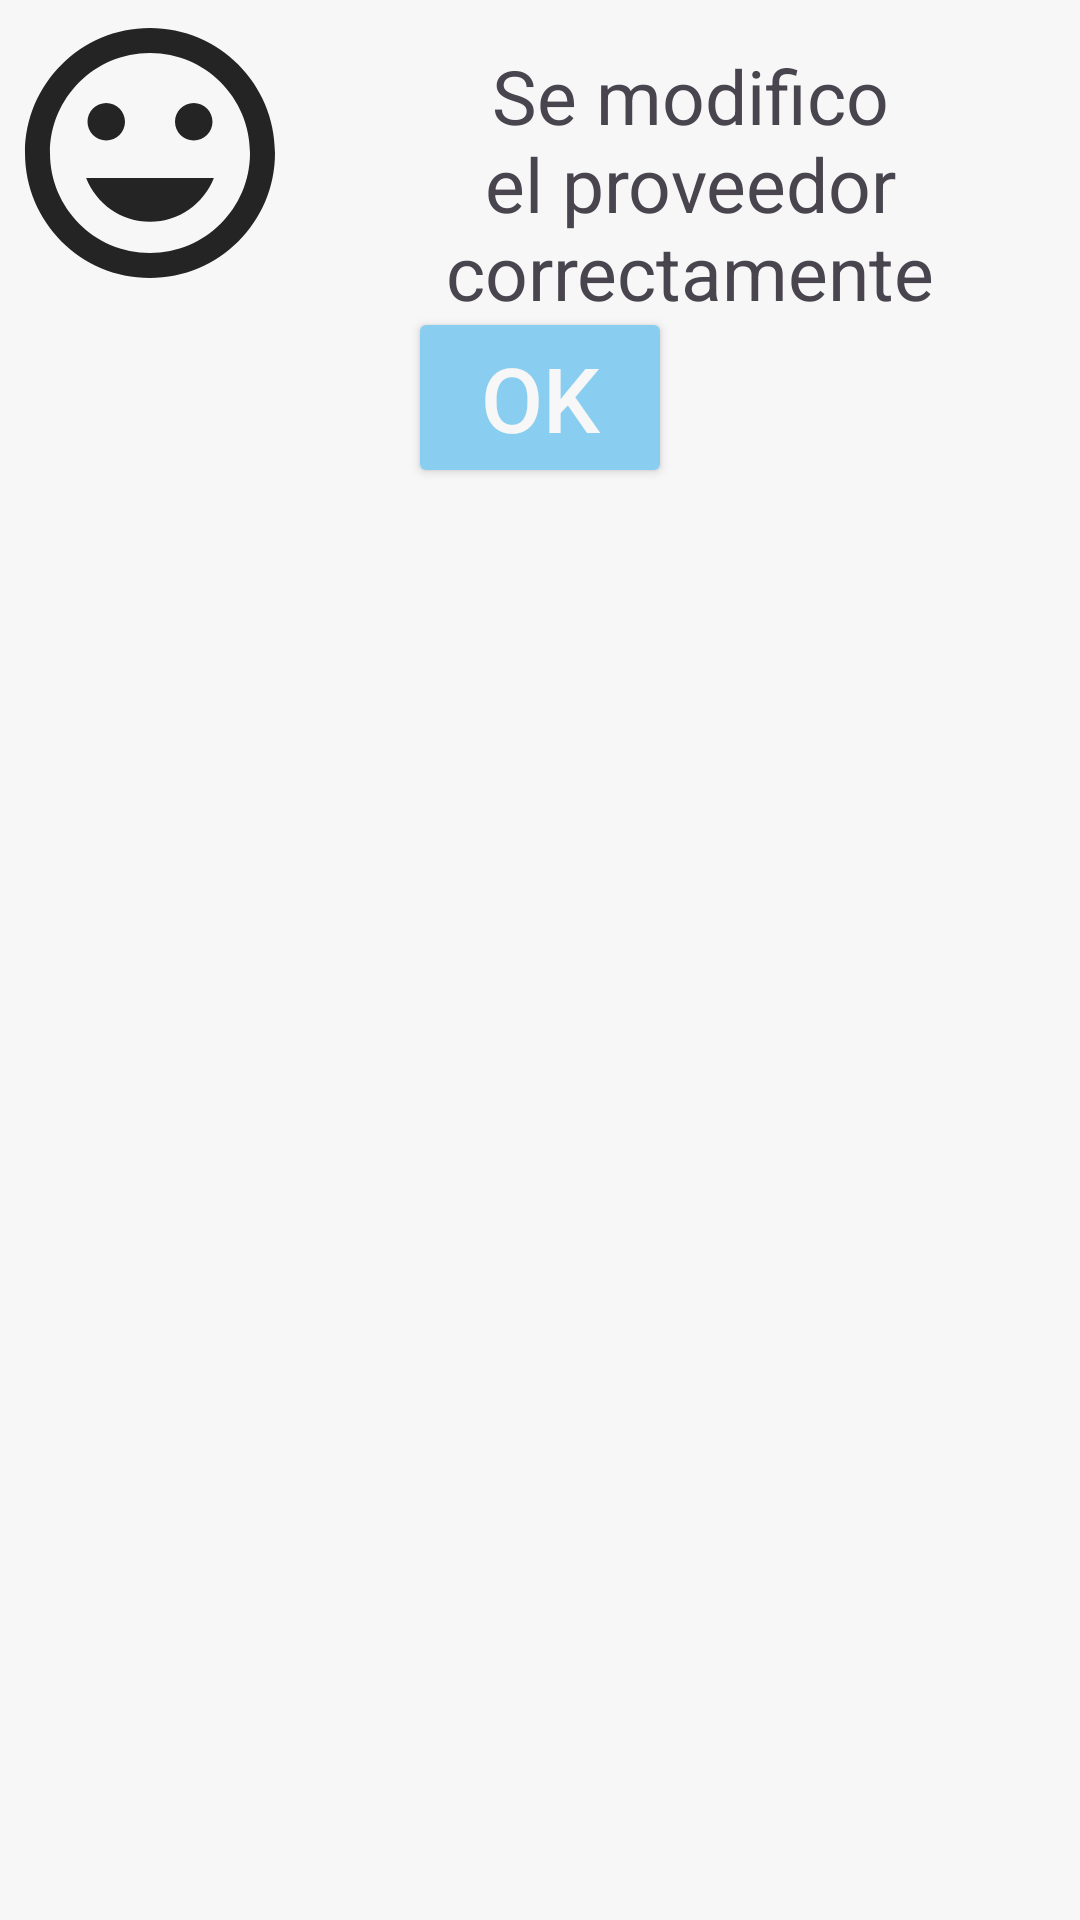

Where to tap for icons on this 1080px×1920px app screen, as point (x, y):
mood: point (150, 153)
